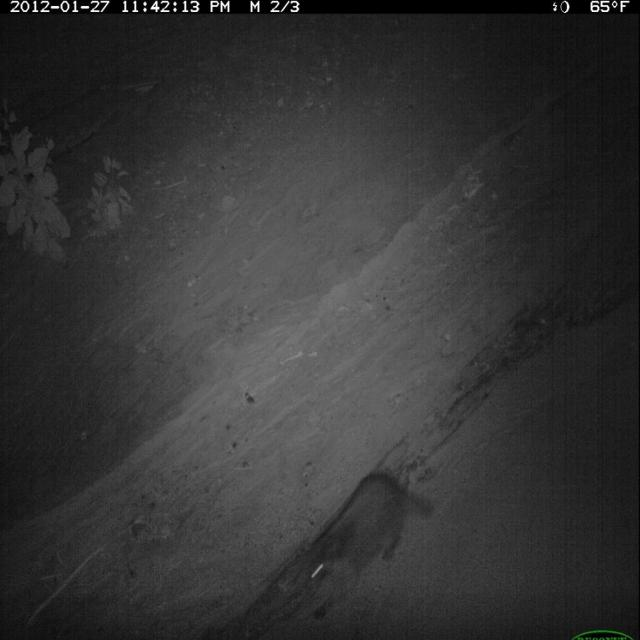raccoon: (300, 464, 437, 627)
